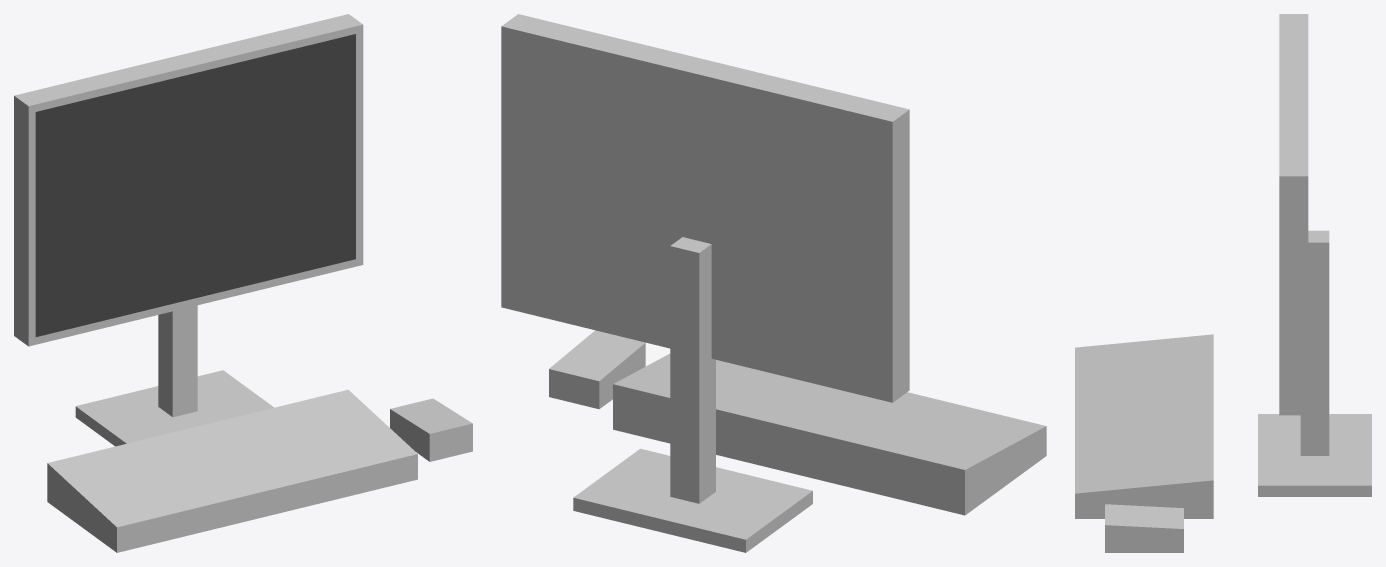
File: Computer.FBX
The picture shows the model from 3 angles, left to right: view 1: azimuth 30°, elevation 25°; view 2: azimuth 150°, elevation 25°; view 3: azimuth 270°, elevation 25°; orthographic projection. The views are drawn at different scales.
Visible parts, largest first — view 1: computer; view 2: computer; view 3: computer.
Boxes of the visible parts, x1=… form: computer: x1=14, y1=14, x2=472, y2=552; computer: x1=501, y1=14, x2=1046, y2=552; computer: x1=1075, y1=14, x2=1371, y2=552.
Size of the model in its own units: 6.18 by 5.86 by 4.31.
